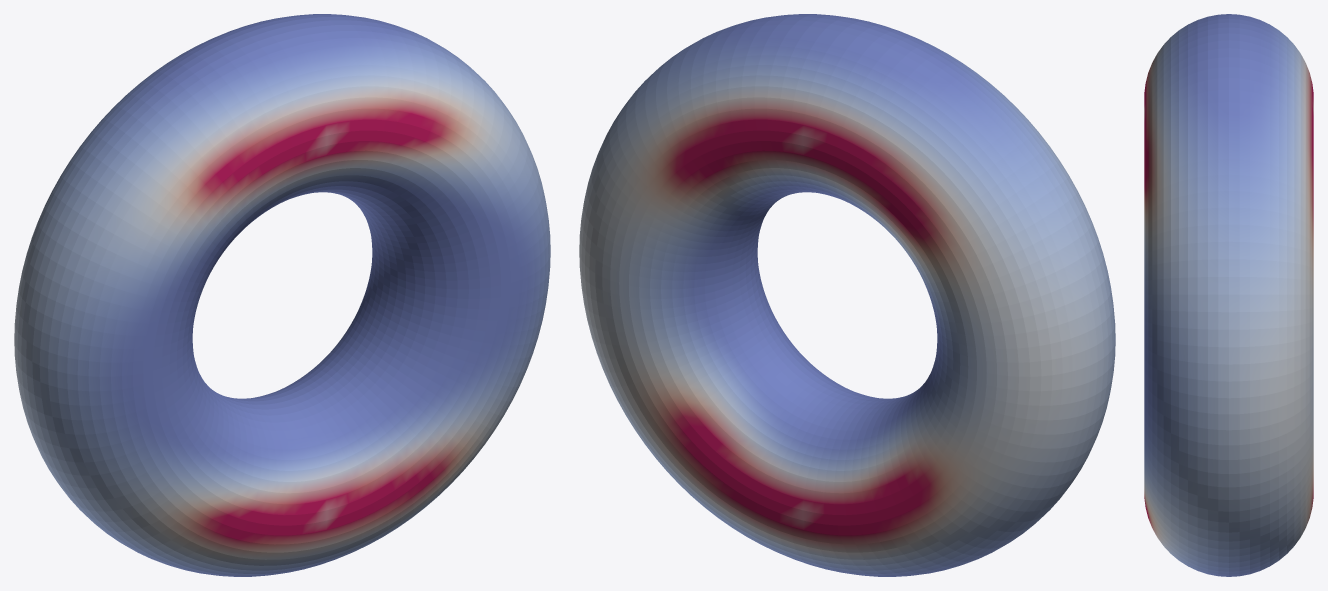
3 renders of one model, left to right at view 1: azimuth 30°, elevation 25°; view 2: azimuth 150°, elevation 25°; view 3: azimuth 270°, elevation 25°, orthographic. The views are drawn at different scales.
Visible parts, largest first — view 1: world; view 2: world; view 3: world.
Boxes of the visible parts, bbox=[...] form: world: bbox=[14, 14, 550, 576]; world: bbox=[579, 14, 1115, 576]; world: bbox=[1144, 14, 1313, 576].
Bounding box in the file's own units: 18.13 × 18.13 × 5.46.
